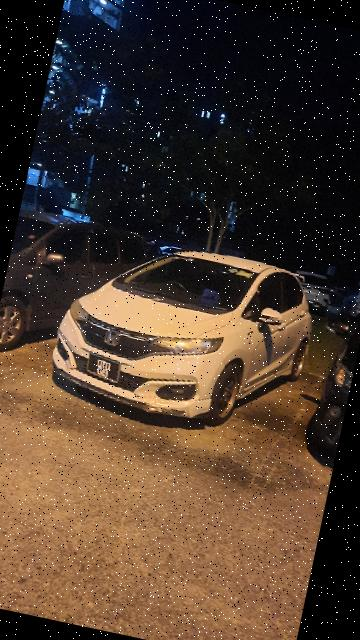License_Plate: (81, 350, 127, 386)
car: (42, 221, 327, 449), (1, 204, 157, 376)
